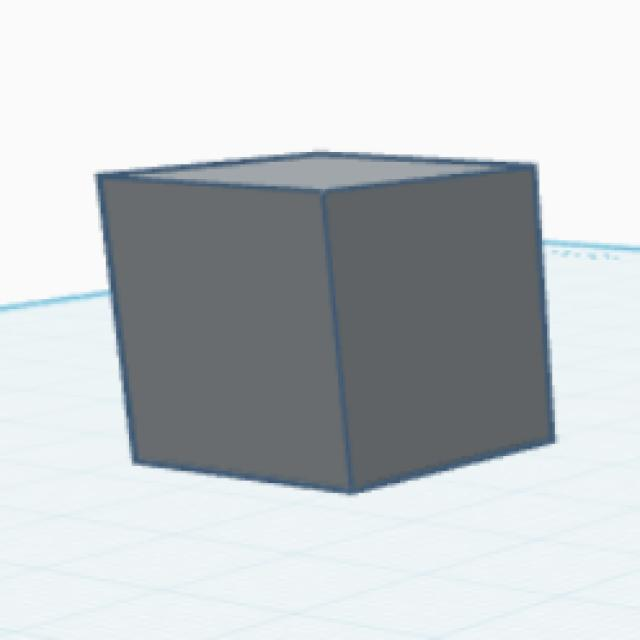cube: (91, 148, 558, 500)
